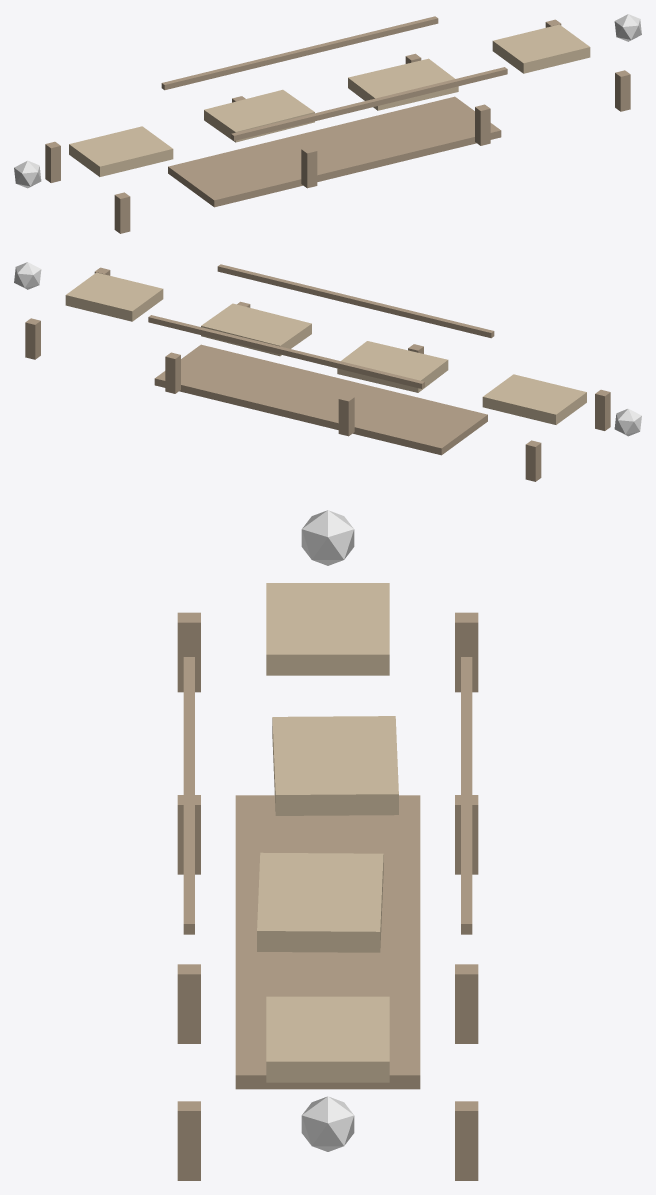
Rendered from COASTAL_BOARDWALK_001_LOD_CLOSE.glb.
3 renders of one model, top to bottom at view 1: azimuth 30°, elevation 25°; view 2: azimuth 150°, elevation 25°; view 3: azimuth 270°, elevation 25°, orthographic. The views are drawn at different scales.
Visible parts, largest first — view 1: COASTAL_BOARDWALK_001_LOD_CLOSE_GROUND_SOCKET, COASTAL_BOARDWALK_001_LOD_CLOSE_DECK_A, COASTAL_BOARDWALK_001_LOD_CLOSE_DECK_D, COASTAL_BOARDWALK_001_LOD_CLOSE_DECK_B, COASTAL_BOARDWALK_001_LOD_CLOSE_DECK_C, COASTAL_BOARDWALK_001_LOD_CLOSE_RAIL_LEFT, COASTAL_BOARDWALK_001_LOD_CLOSE_RAIL_RIGHT, COASTAL_BOARDWALK_001_LOD_CLOSE_POST_RIGHT_A, COASTAL_BOARDWALK_001_LOD_CLOSE_POST_RIGHT_B, COASTAL_BOARDWALK_001_LOD_CLOSE_POST_RIGHT_C, COASTAL_BOARDWALK_001_LOD_CLOSE_POST_RIGHT_D, COASTAL_BOARDWALK_001_LOD_CLOSE_POST_LEFT_A (+2 smaller); view 2: COASTAL_BOARDWALK_001_LOD_CLOSE_GROUND_SOCKET, COASTAL_BOARDWALK_001_LOD_CLOSE_DECK_A, COASTAL_BOARDWALK_001_LOD_CLOSE_DECK_D, COASTAL_BOARDWALK_001_LOD_CLOSE_DECK_B, COASTAL_BOARDWALK_001_LOD_CLOSE_DECK_C, COASTAL_BOARDWALK_001_LOD_CLOSE_RAIL_RIGHT, COASTAL_BOARDWALK_001_LOD_CLOSE_RAIL_LEFT, COASTAL_BOARDWALK_001_LOD_CLOSE_POST_LEFT_A, COASTAL_BOARDWALK_001_LOD_CLOSE_POST_LEFT_B, COASTAL_BOARDWALK_001_LOD_CLOSE_POST_LEFT_C, COASTAL_BOARDWALK_001_LOD_CLOSE_POST_LEFT_D, COASTAL_BOARDWALK_001_LOD_CLOSE_POST_RIGHT_A (+2 smaller); view 3: COASTAL_BOARDWALK_001_LOD_CLOSE_GROUND_SOCKET, COASTAL_BOARDWALK_001_LOD_CLOSE_DECK_B, COASTAL_BOARDWALK_001_LOD_CLOSE_DECK_C, COASTAL_BOARDWALK_001_LOD_CLOSE_DECK_A, COASTAL_BOARDWALK_001_LOD_CLOSE_DECK_D, COASTAL_BOARDWALK_001_LOD_CLOSE_RAIL_LEFT, COASTAL_BOARDWALK_001_LOD_CLOSE_RAIL_RIGHT, COASTAL_BOARDWALK_001_LOD_CLOSE_SNAP_IN, COASTAL_BOARDWALK_001_LOD_CLOSE_SNAP_OUT, COASTAL_BOARDWALK_001_LOD_CLOSE_POST_LEFT_C, COASTAL_BOARDWALK_001_LOD_CLOSE_POST_LEFT_D, COASTAL_BOARDWALK_001_LOD_CLOSE_POST_RIGHT_C (+5 smaller).
Part boxes in pixels (<box>): COASTAL_BOARDWALK_001_LOD_CLOSE_GROUND_SOCKET: <box>168,96,501,207</box>; COASTAL_BOARDWALK_001_LOD_CLOSE_DECK_A: <box>69,126,173,176</box>; COASTAL_BOARDWALK_001_LOD_CLOSE_DECK_D: <box>492,24,590,73</box>; COASTAL_BOARDWALK_001_LOD_CLOSE_DECK_B: <box>204,89,314,142</box>; COASTAL_BOARDWALK_001_LOD_CLOSE_DECK_C: <box>348,58,458,110</box>; COASTAL_BOARDWALK_001_LOD_CLOSE_RAIL_LEFT: <box>161,16,438,90</box>; COASTAL_BOARDWALK_001_LOD_CLOSE_RAIL_RIGHT: <box>231,67,507,140</box>; COASTAL_BOARDWALK_001_LOD_CLOSE_POST_RIGHT_A: <box>114,192,130,233</box>; COASTAL_BOARDWALK_001_LOD_CLOSE_POST_RIGHT_B: <box>301,147,317,188</box>; COASTAL_BOARDWALK_001_LOD_CLOSE_POST_RIGHT_C: <box>475,104,490,145</box>; COASTAL_BOARDWALK_001_LOD_CLOSE_POST_RIGHT_D: <box>615,70,630,111</box>; COASTAL_BOARDWALK_001_LOD_CLOSE_POST_LEFT_A: <box>45,141,60,182</box>; COASTAL_BOARDWALK_001_LOD_CLOSE_GROUND_SOCKET: <box>154,344,487,455</box>; COASTAL_BOARDWALK_001_LOD_CLOSE_DECK_A: <box>482,374,586,424</box>; COASTAL_BOARDWALK_001_LOD_CLOSE_DECK_D: <box>65,272,163,321</box>; COASTAL_BOARDWALK_001_LOD_CLOSE_DECK_B: <box>337,341,448,392</box>; COASTAL_BOARDWALK_001_LOD_CLOSE_DECK_C: <box>201,303,311,356</box>; COASTAL_BOARDWALK_001_LOD_CLOSE_RAIL_RIGHT: <box>217,264,494,338</box>; COASTAL_BOARDWALK_001_LOD_CLOSE_RAIL_LEFT: <box>148,315,424,388</box>; COASTAL_BOARDWALK_001_LOD_CLOSE_POST_LEFT_A: <box>525,440,541,481</box>; COASTAL_BOARDWALK_001_LOD_CLOSE_POST_LEFT_B: <box>338,395,354,436</box>; COASTAL_BOARDWALK_001_LOD_CLOSE_POST_LEFT_C: <box>165,352,180,393</box>; COASTAL_BOARDWALK_001_LOD_CLOSE_POST_LEFT_D: <box>25,318,40,359</box>; COASTAL_BOARDWALK_001_LOD_CLOSE_POST_RIGHT_A: <box>595,389,610,430</box>; COASTAL_BOARDWALK_001_LOD_CLOSE_GROUND_SOCKET: <box>235,795,420,1089</box>; COASTAL_BOARDWALK_001_LOD_CLOSE_DECK_B: <box>272,716,398,815</box>; COASTAL_BOARDWALK_001_LOD_CLOSE_DECK_C: <box>257,852,383,952</box>; COASTAL_BOARDWALK_001_LOD_CLOSE_DECK_A: <box>266,583,389,675</box>; COASTAL_BOARDWALK_001_LOD_CLOSE_DECK_D: <box>266,996,389,1082</box>; COASTAL_BOARDWALK_001_LOD_CLOSE_RAIL_LEFT: <box>461,657,472,934</box>; COASTAL_BOARDWALK_001_LOD_CLOSE_RAIL_RIGHT: <box>183,657,194,934</box>; COASTAL_BOARDWALK_001_LOD_CLOSE_SNAP_IN: <box>301,510,354,565</box>; COASTAL_BOARDWALK_001_LOD_CLOSE_SNAP_OUT: <box>301,1096,354,1151</box>; COASTAL_BOARDWALK_001_LOD_CLOSE_POST_LEFT_C: <box>455,964,478,1043</box>; COASTAL_BOARDWALK_001_LOD_CLOSE_POST_LEFT_D: <box>455,1101,478,1180</box>; COASTAL_BOARDWALK_001_LOD_CLOSE_POST_RIGHT_C: <box>177,964,200,1043</box>.
Bounding box in the file's own units: 1.87 × 0.2475 × 0.39.
